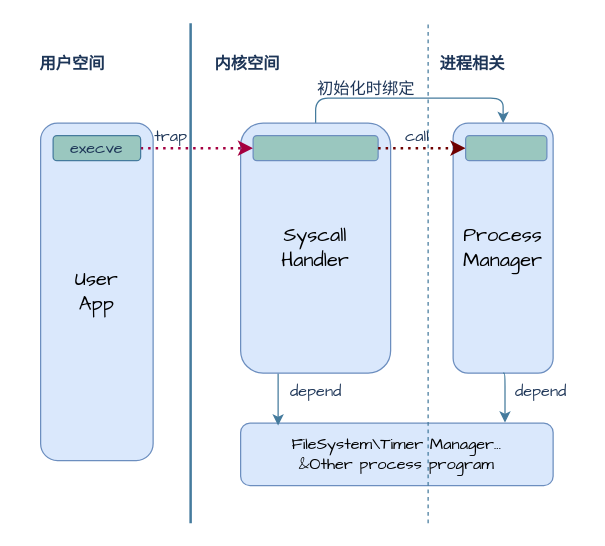
This 605x546 diagram has some shape labels left out. Each missing label, with the centre of its shape:
Proc::execve: point 505,147
sys_execve: point 315,147
